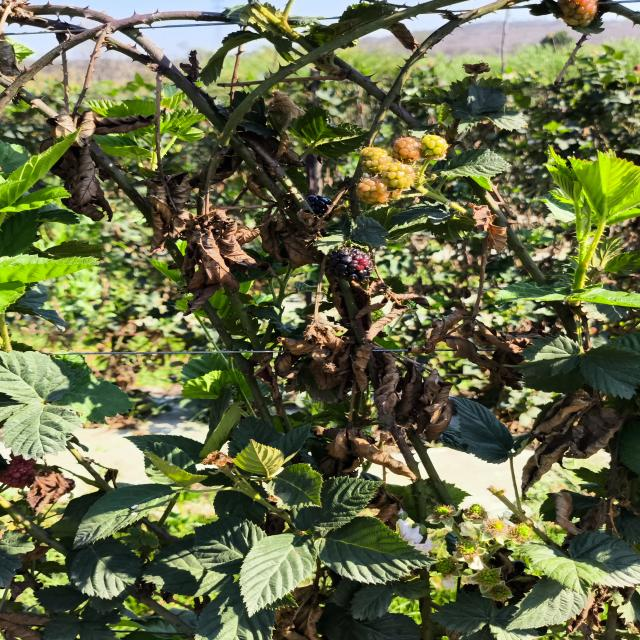marron: (327, 247, 373, 281)
naranja: (558, 0, 598, 27), (356, 177, 390, 204), (393, 137, 420, 164)
verde: (382, 162, 416, 189), (360, 147, 393, 174), (420, 134, 449, 160)
